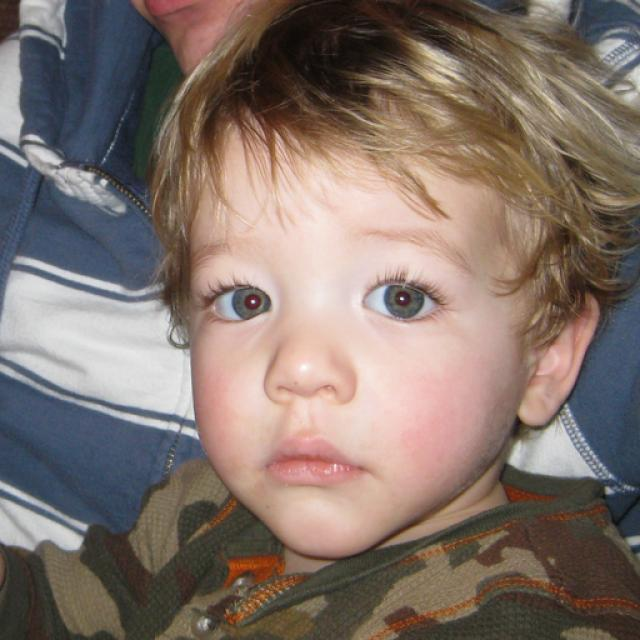sad: (190, 122, 525, 558)
